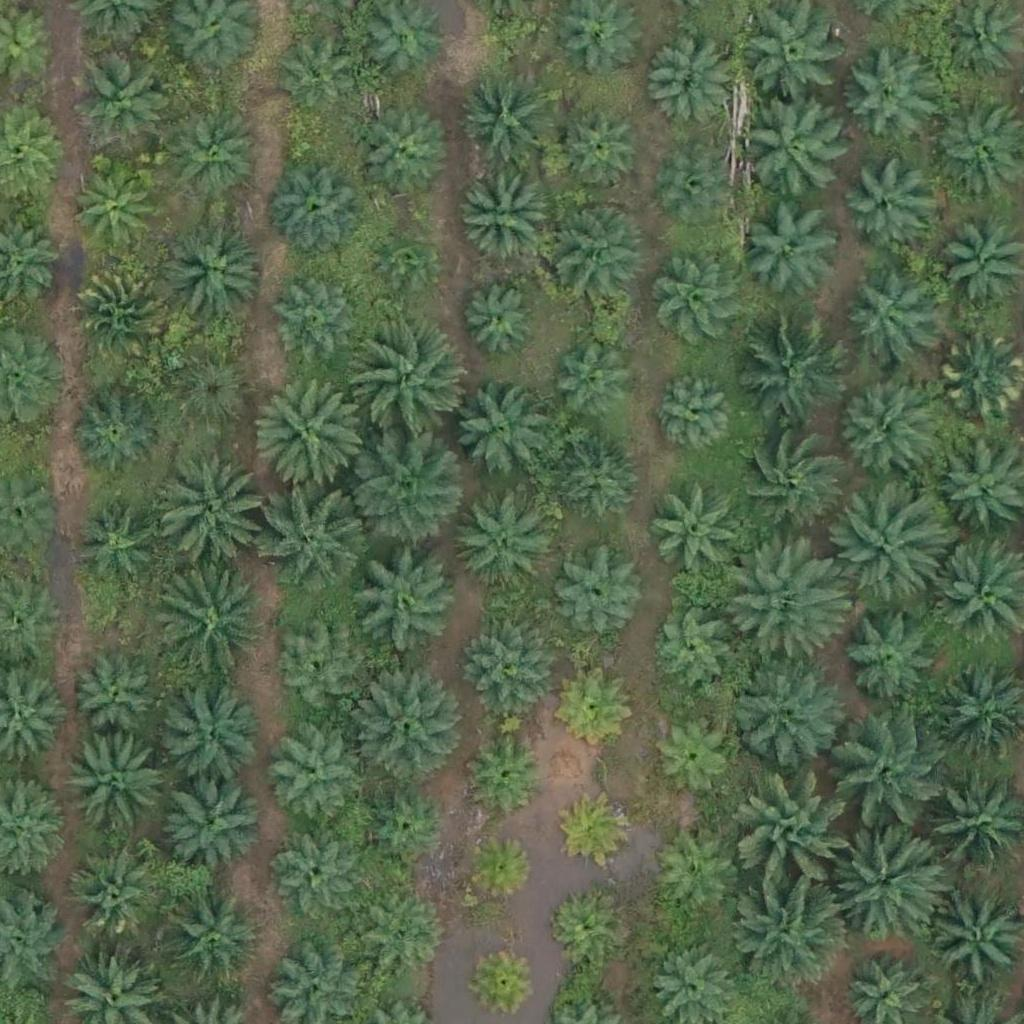Kelapa_Sawit: (153, 457, 266, 571), (736, 95, 849, 209), (836, 718, 949, 831), (735, 876, 848, 989), (348, 434, 461, 547), (349, 544, 462, 657), (350, 667, 463, 780), (259, 480, 372, 593), (255, 376, 368, 489), (149, 571, 262, 684), (835, 495, 947, 609), (741, 780, 853, 894), (736, 319, 848, 433), (355, 324, 467, 438), (831, 823, 943, 936), (728, 654, 840, 767), (728, 539, 840, 652), (732, 426, 844, 539), (836, 600, 936, 701), (748, 200, 848, 301), (647, 484, 747, 585), (542, 200, 642, 301), (451, 488, 551, 589), (269, 160, 369, 261), (161, 217, 261, 318), (158, 687, 258, 788), (163, 770, 263, 871), (162, 887, 262, 988), (65, 735, 165, 836), (70, 46, 170, 147), (161, 102, 261, 203), (458, 68, 558, 169), (748, 3, 848, 104), (831, 382, 931, 482), (456, 167, 556, 267), (450, 383, 550, 483), (74, 264, 174, 364), (839, 41, 939, 141), (649, 370, 737, 459), (360, 782, 448, 870), (360, 900, 448, 988), (841, 160, 929, 248), (842, 276, 930, 364), (657, 260, 745, 348), (551, 333, 639, 421), (163, 350, 251, 438), (68, 496, 156, 584), (646, 710, 734, 798), (651, 833, 739, 921), (270, 738, 358, 826), (271, 830, 359, 918), (272, 281, 360, 369), (68, 166, 156, 254), (73, 389, 161, 477), (73, 646, 161, 734), (554, 438, 641, 526), (649, 608, 736, 696), (464, 618, 551, 706), (551, 549, 638, 637), (276, 627, 363, 715), (68, 852, 155, 940), (274, 33, 361, 121), (364, 113, 451, 201), (557, 105, 644, 193), (647, 40, 734, 128), (461, 283, 536, 359), (545, 888, 620, 964), (661, 150, 736, 226), (467, 941, 542, 1017), (560, 792, 635, 868), (470, 734, 545, 809), (462, 831, 537, 906), (560, 670, 635, 745), (372, 227, 434, 290)
